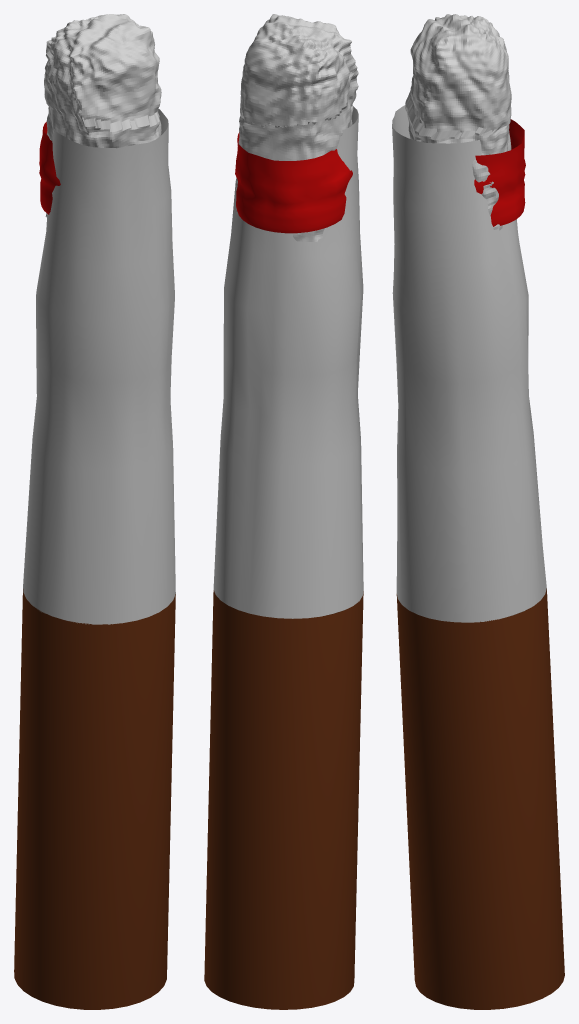
Rendered from Cig.obj.
3 renders of one model, left to right at view 1: azimuth 30°, elevation 25°; view 2: azimuth 150°, elevation 25°; view 3: azimuth 270°, elevation 25°, orthographic. The views are drawn at different scales.
Parts seen in each view (by area): view 1: Cylinder; view 2: Cylinder; view 3: Cylinder.
Boxes of the visible parts, left/top/right/bottom form: Cylinder: left=14, top=14, right=175, bottom=1009; Cylinder: left=204, top=14, right=363, bottom=1009; Cylinder: left=392, top=14, right=564, bottom=1009.
Size of the model in its own units: 1.08 by 7.51 by 1.23.
